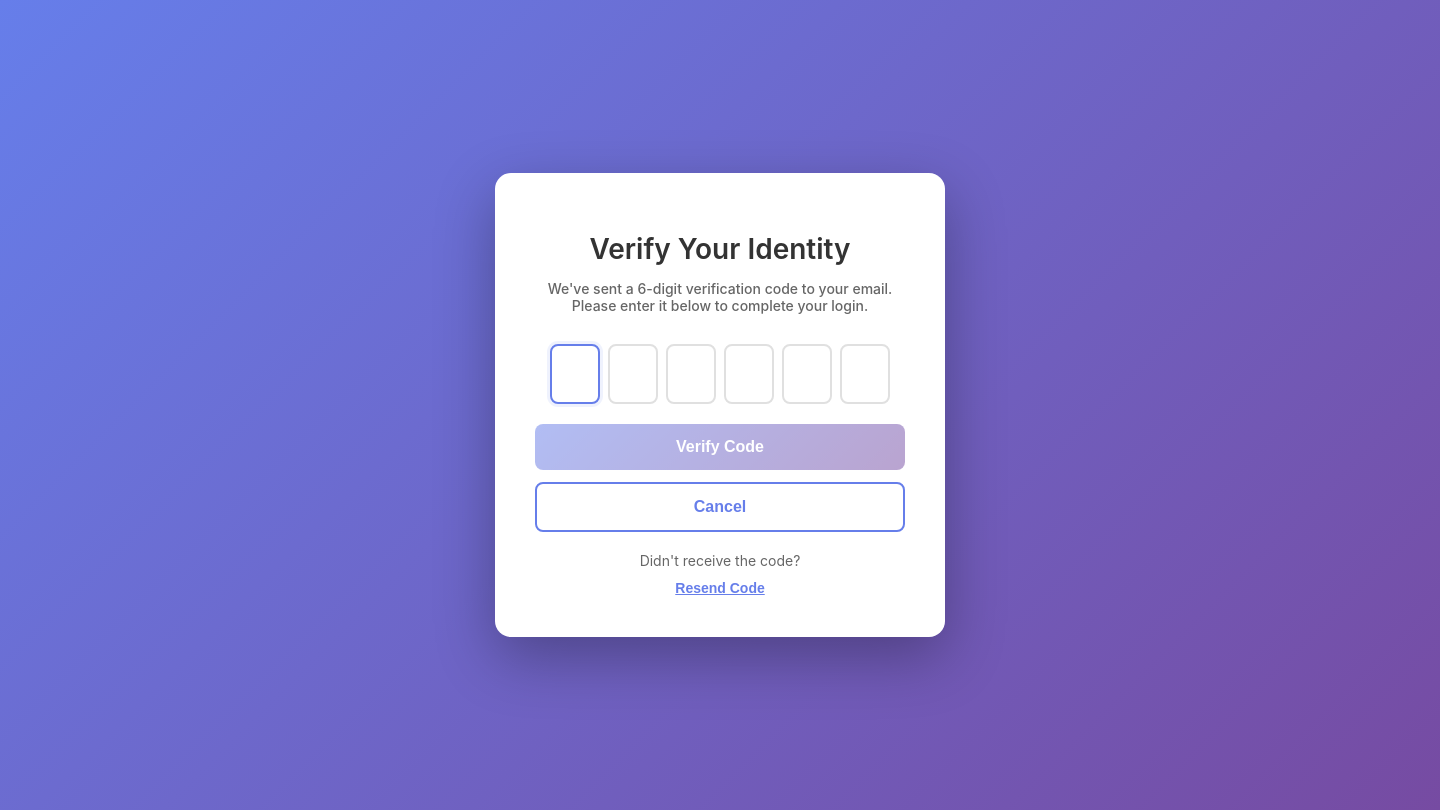
Scenario: 2FA Verification Page › Form Submission › should show loading state during submission
Check: the heading "Verify Your Identity" is shown, box x1=590 y1=232 x2=850 y2=266
Step 1. Type "1" into the 1st field → point(575, 374), box x1=550 y1=344 x2=600 y2=404
Step 2. Type "2" into the 2nd field → point(633, 374), box x1=608 y1=344 x2=658 y2=404
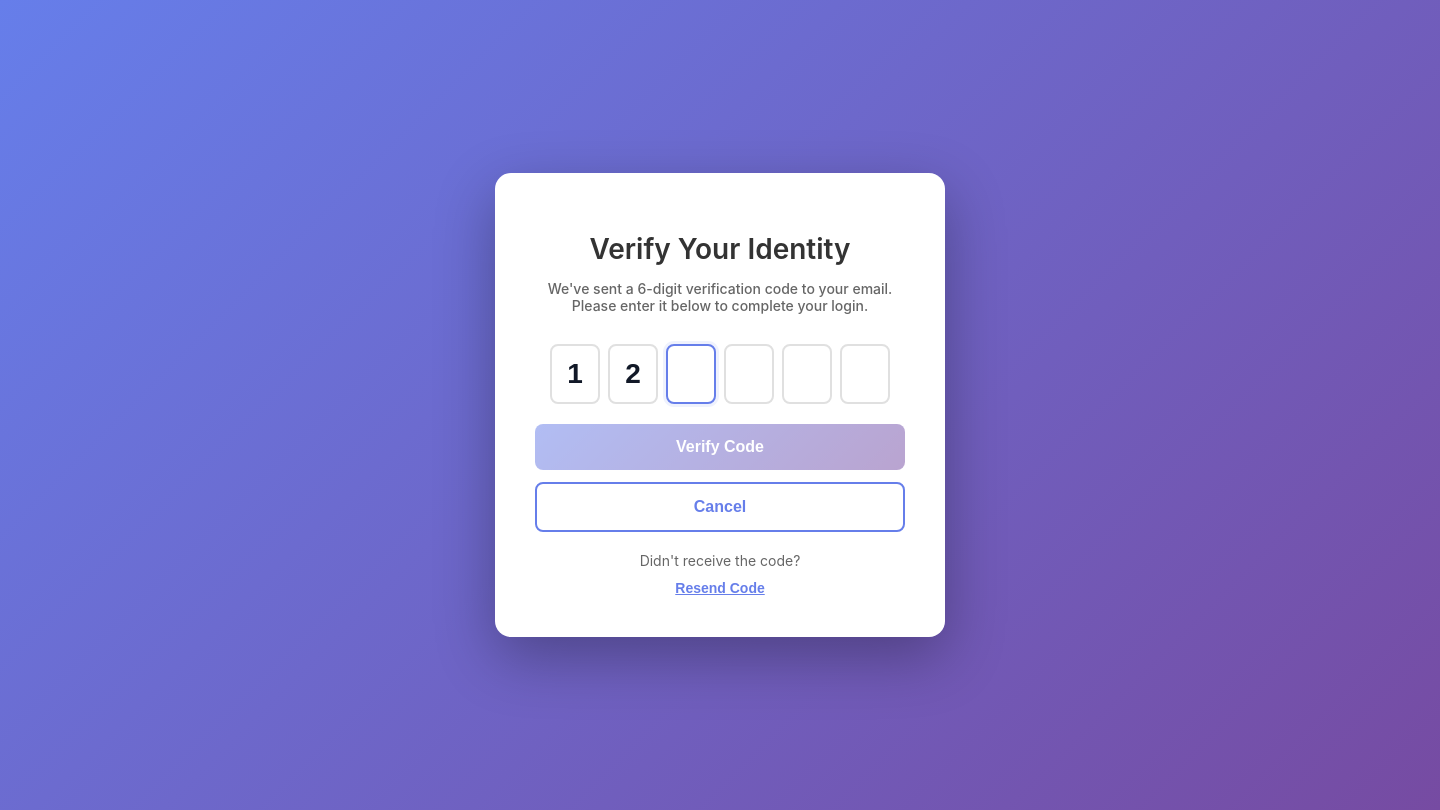
Step 3. Type "3" into the 3rd field → point(691, 374), box x1=666 y1=344 x2=716 y2=404
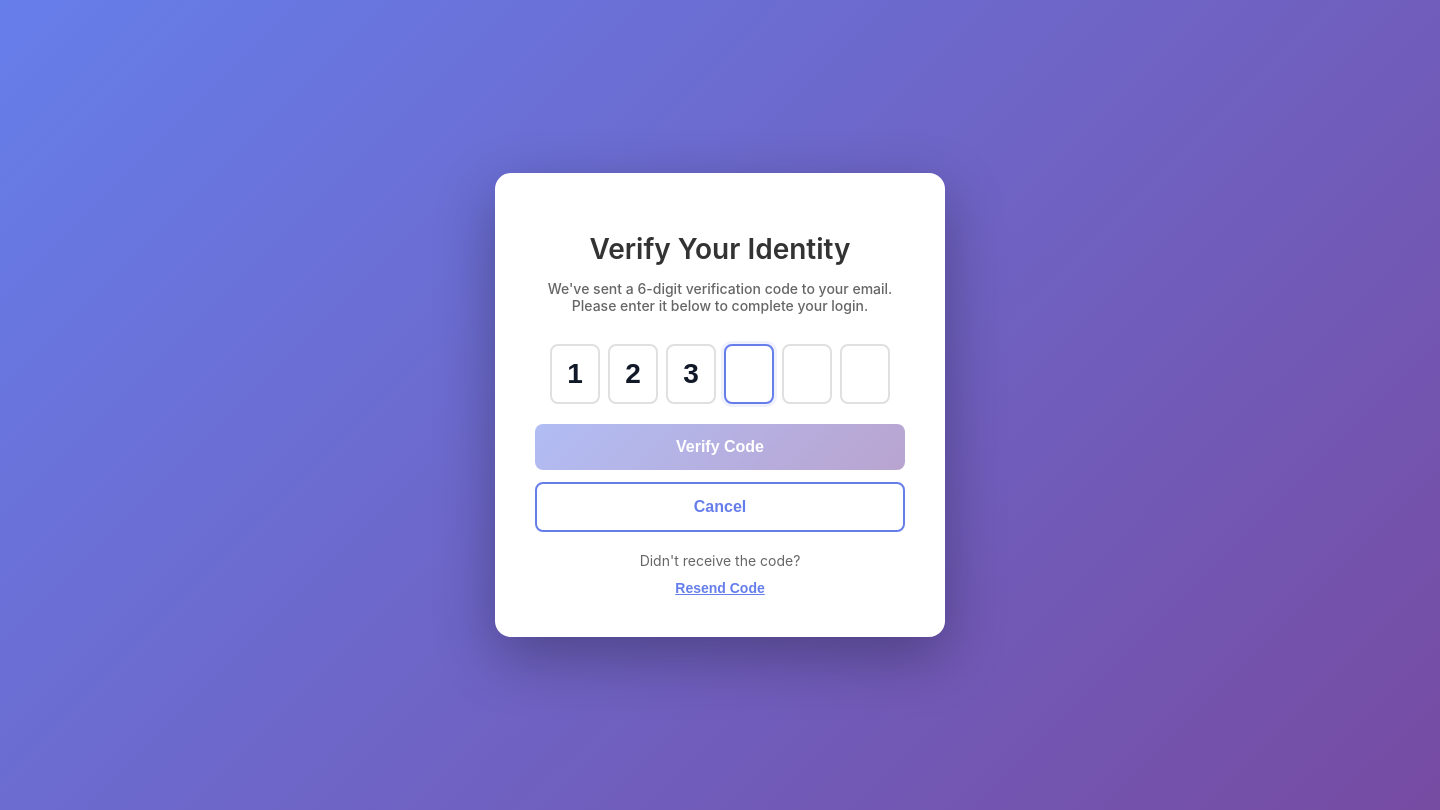
Step 4. Type "4" into the 4th field → point(749, 374), box x1=724 y1=344 x2=774 y2=404
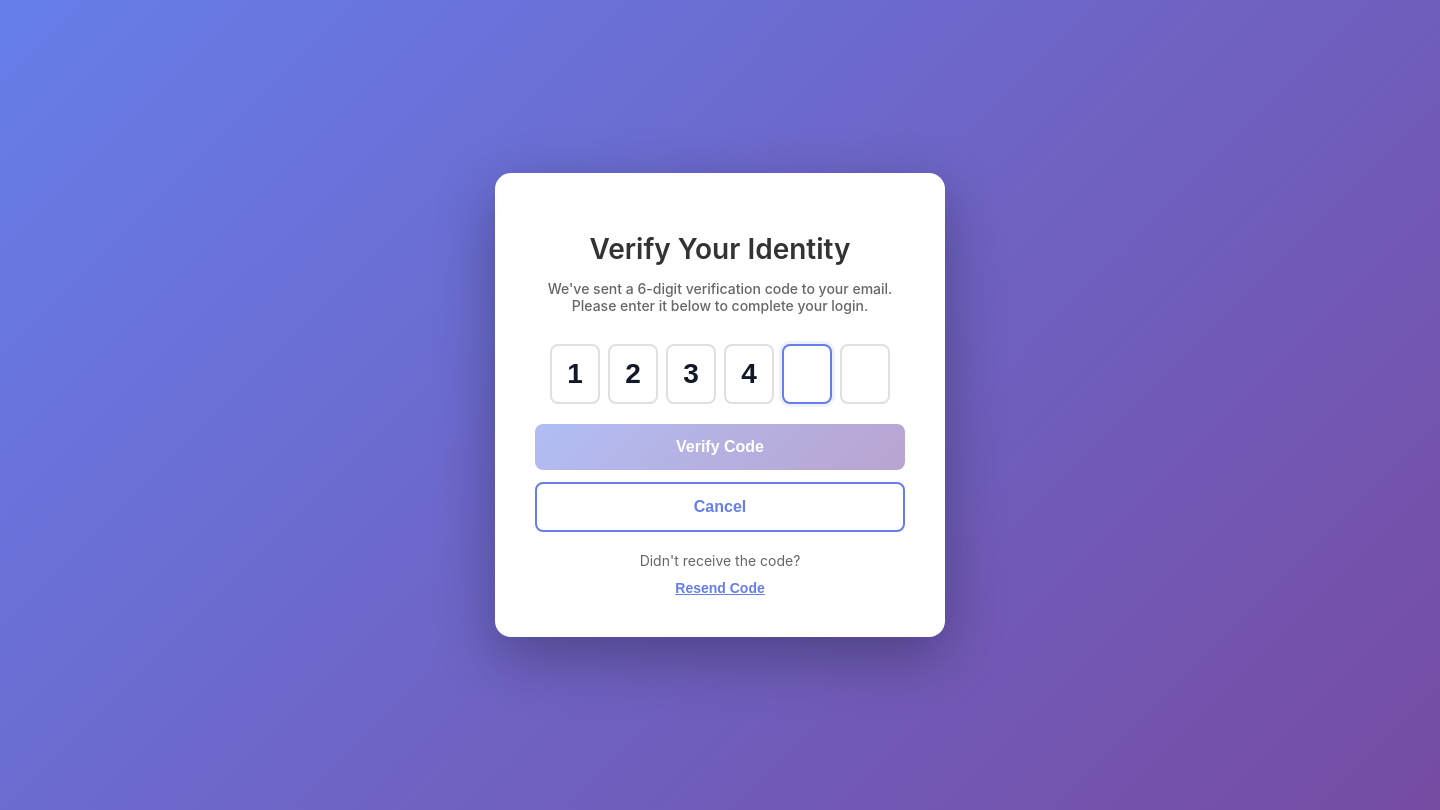
Step 5. Type "5" into the 5th field → point(807, 374), box x1=782 y1=344 x2=832 y2=404
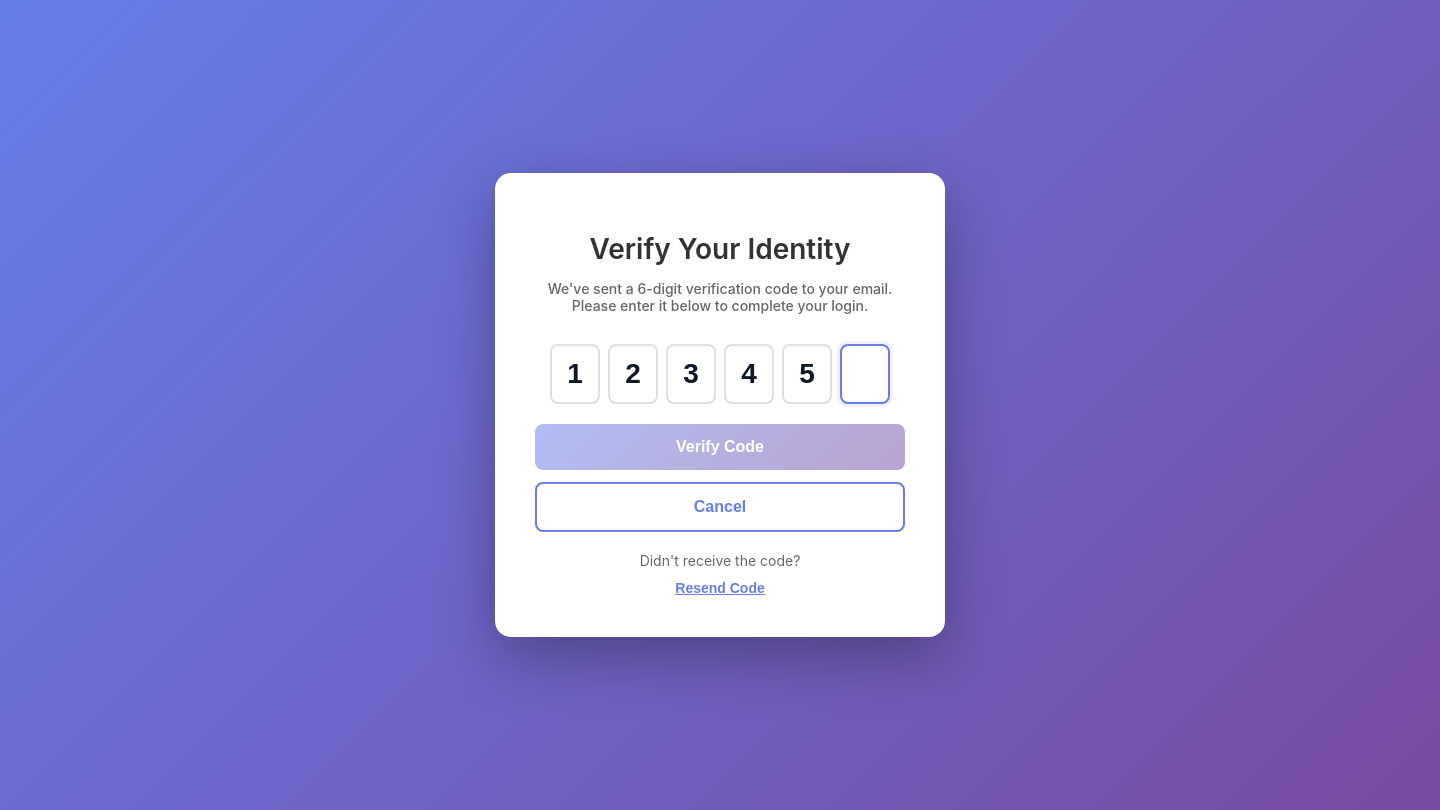
Step 6. Type "6" into the 6th field → point(865, 374), box x1=840 y1=344 x2=890 y2=404
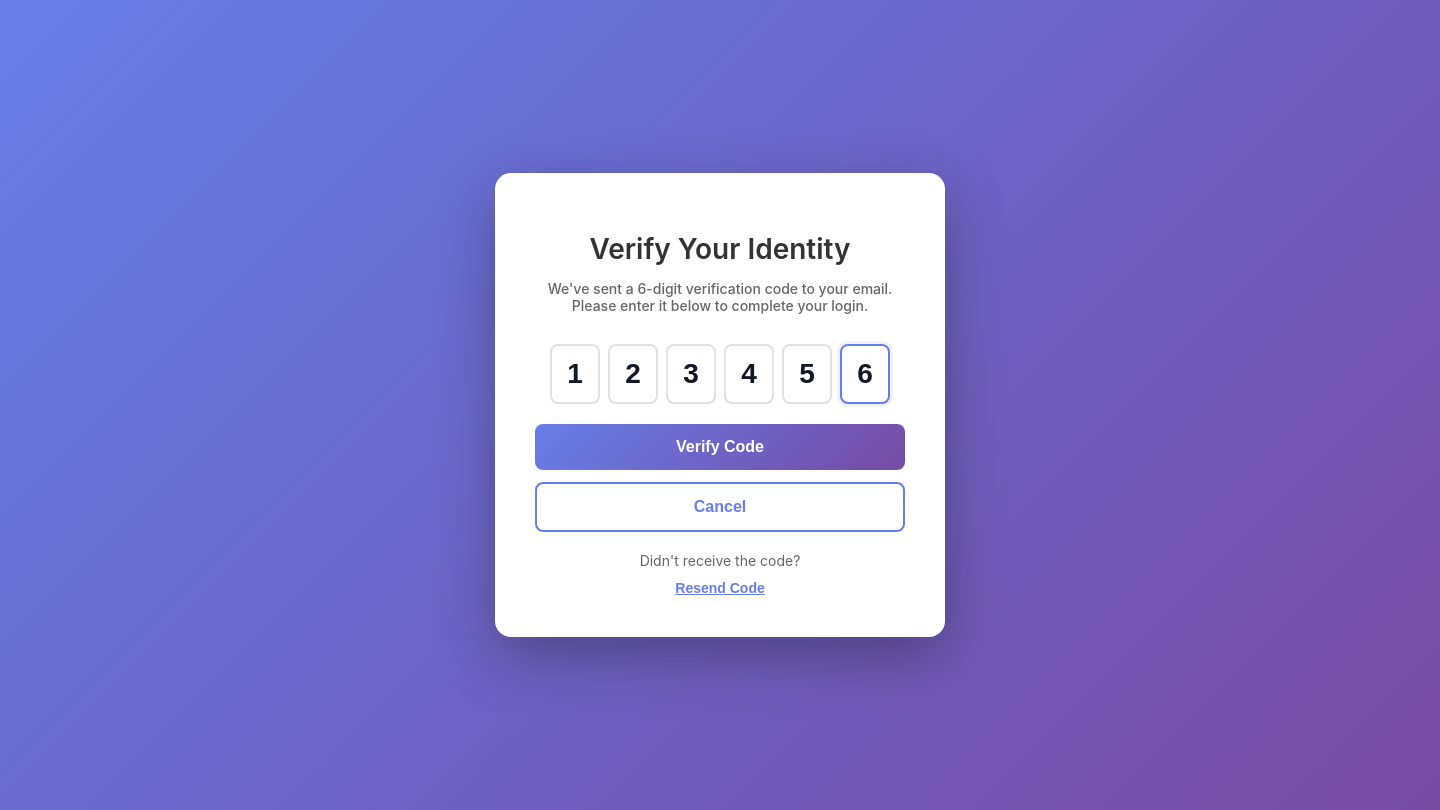
Step 7. Click the button "Verify Code" → point(720, 447), box x1=535 y1=424 x2=905 y2=470
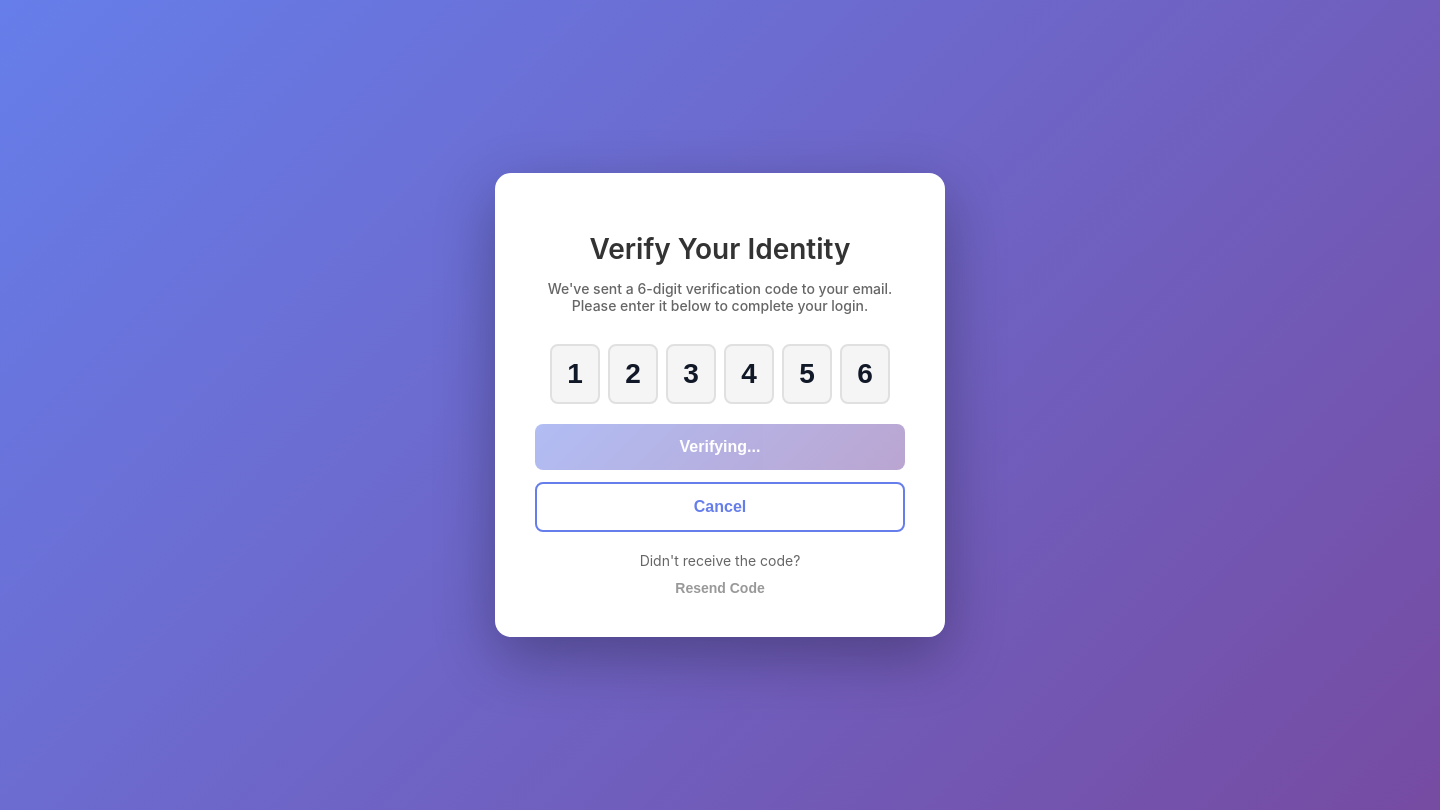
Check: the button "Verifying..." is disabled, box x1=535 y1=424 x2=905 y2=470
